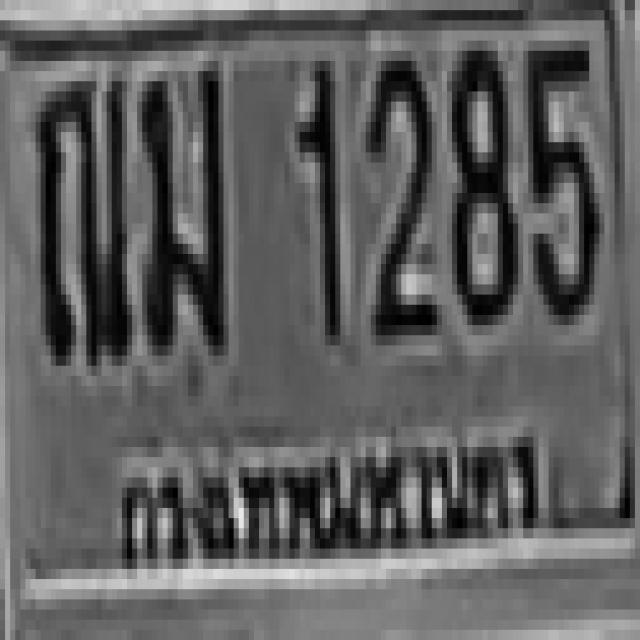1: (295, 51, 335, 335)
2: (361, 46, 432, 330)
28NorNen: (30, 71, 127, 356)
42MorMa: (135, 61, 221, 345)
5: (523, 30, 594, 315)
8: (447, 41, 513, 315)
Bangkok: (97, 399, 559, 583)
